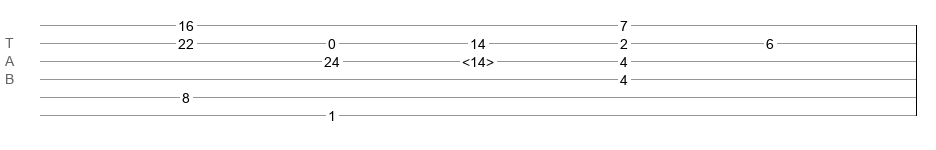0: (328, 36, 336, 46)
1: (328, 108, 336, 118)
14: (470, 36, 486, 46)
16: (178, 18, 194, 28)
2: (620, 36, 628, 46)
22: (178, 36, 194, 46)
24: (324, 54, 340, 64)
4: (620, 54, 628, 64), (620, 72, 628, 82)
6: (766, 36, 774, 46)
7: (620, 18, 628, 28)
8: (182, 90, 190, 100)
harmonic: (462, 54, 494, 64)
